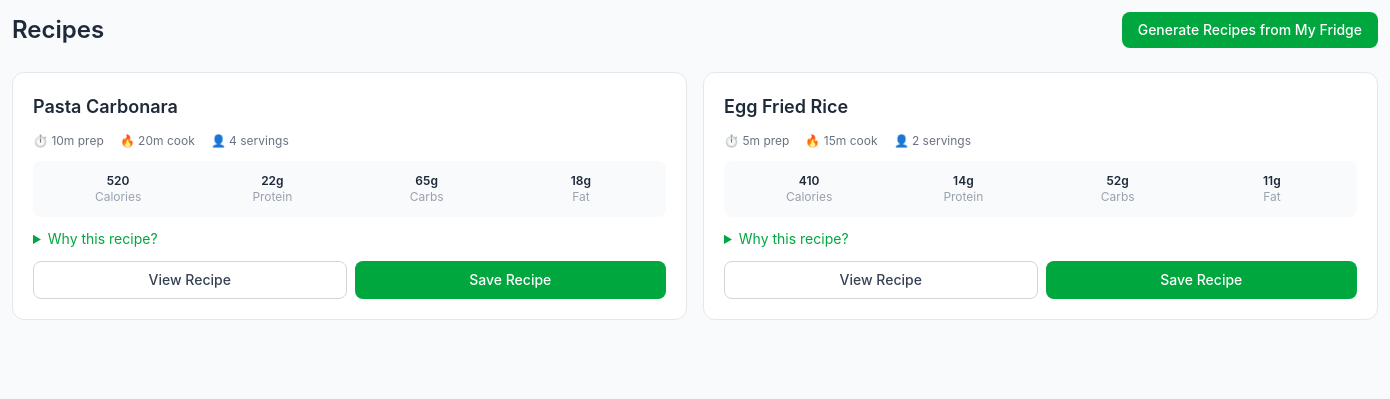
Test: RecipeList › shows an error message with a retry button when generation fails
What coordinates should you click on to do the following:
click the button "Generate Recipes from My Fridge"
I would click on:
 (1250, 30)
Its box is [1122, 12, 1378, 48].
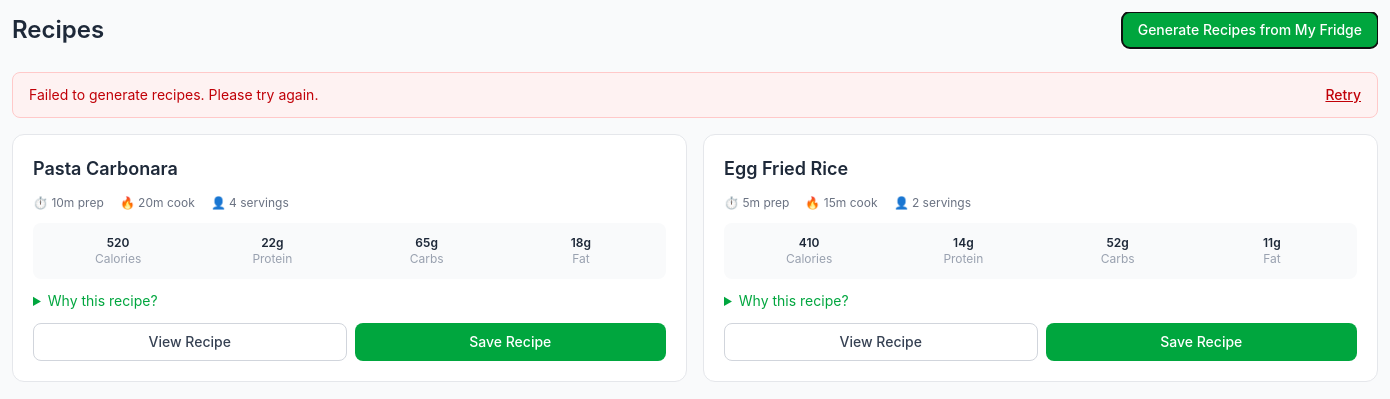
Now the text "Failed to generate recipes. Please try again." is shown, box [29, 85, 318, 105]
Now the button "Retry" is shown, box [1325, 85, 1361, 105]
